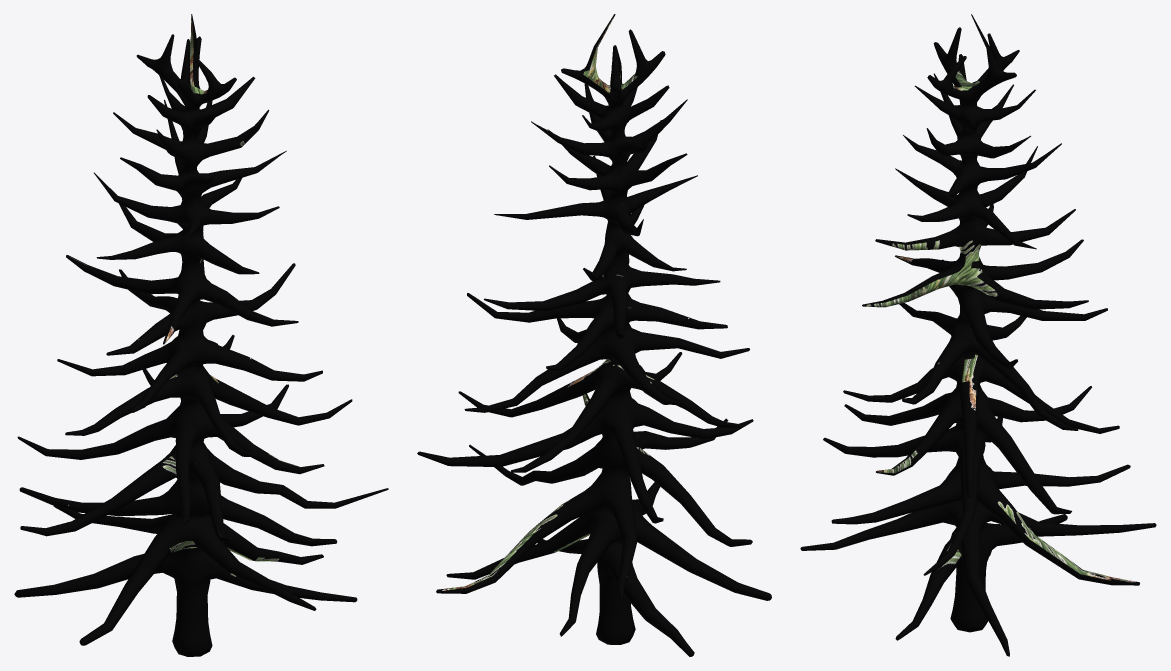
Rendered from BranchSubstancePainter.fbx.
3 views of the same model, side by side, from view 1: azimuth 30°, elevation 25°; view 2: azimuth 150°, elevation 25°; view 3: azimuth 270°, elevation 25° (orthographic). The views are drawn at different scales.
Parts seen in each view (by area): view 1: ZexportBranch; view 2: ZexportBranch; view 3: ZexportBranch.
Part boxes in pixels (bbox=[...]): ZexportBranch: bbox=[14, 14, 388, 656]; ZexportBranch: bbox=[417, 14, 771, 656]; ZexportBranch: bbox=[800, 14, 1156, 656].
Bounding box in the file's own units: 1607 × 2989 × 1570.
Materials: 1 (1 with a texture image).
